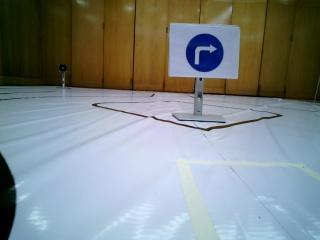right: (167, 22, 244, 83)
